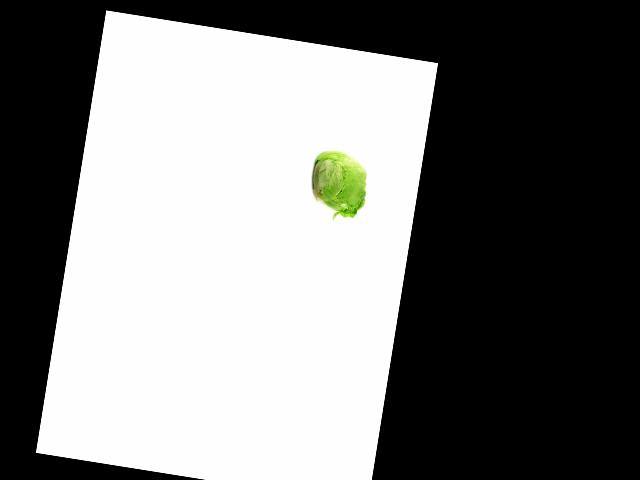lettuce: (305, 145, 374, 217)
